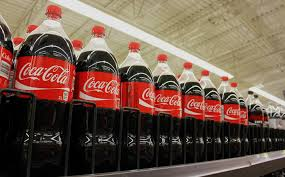coke: (23, 6, 73, 170), (76, 26, 125, 165), (119, 42, 156, 165), (154, 55, 183, 163), (179, 62, 205, 165), (200, 69, 224, 158), (219, 77, 239, 157), (237, 87, 251, 155)
